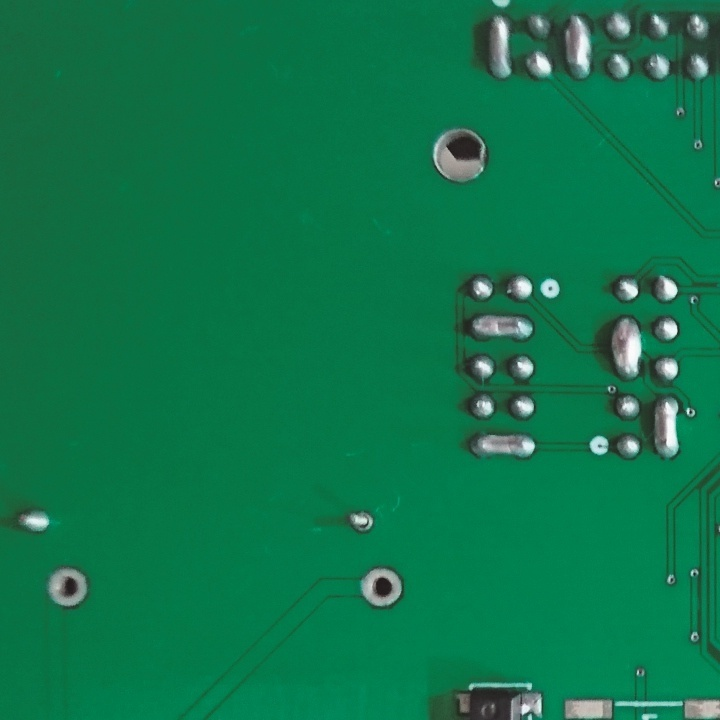F: (357, 565, 404, 614), (46, 564, 91, 610), (345, 507, 374, 536)
P: (466, 308, 536, 345), (607, 312, 643, 383), (469, 427, 536, 464), (650, 391, 681, 464), (484, 11, 513, 83), (562, 12, 591, 82)
